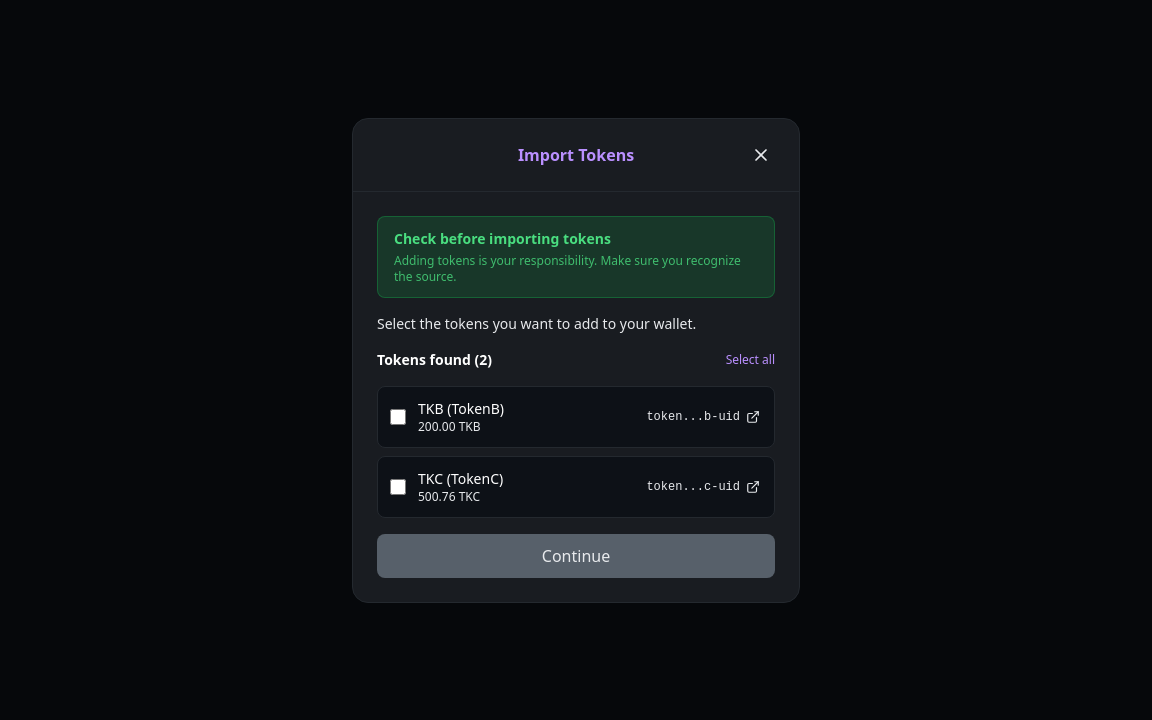
Test: ImportTokensDialog › should show success step after importing
Expected: the text "TKB (TokenB)" is shown, [418, 398, 504, 418]
// Select + Continue + Import
Click the checkbox labelled "TKB (TokenB) 200.00 TKB token...b-uid": (398, 416) [390, 408, 406, 424]
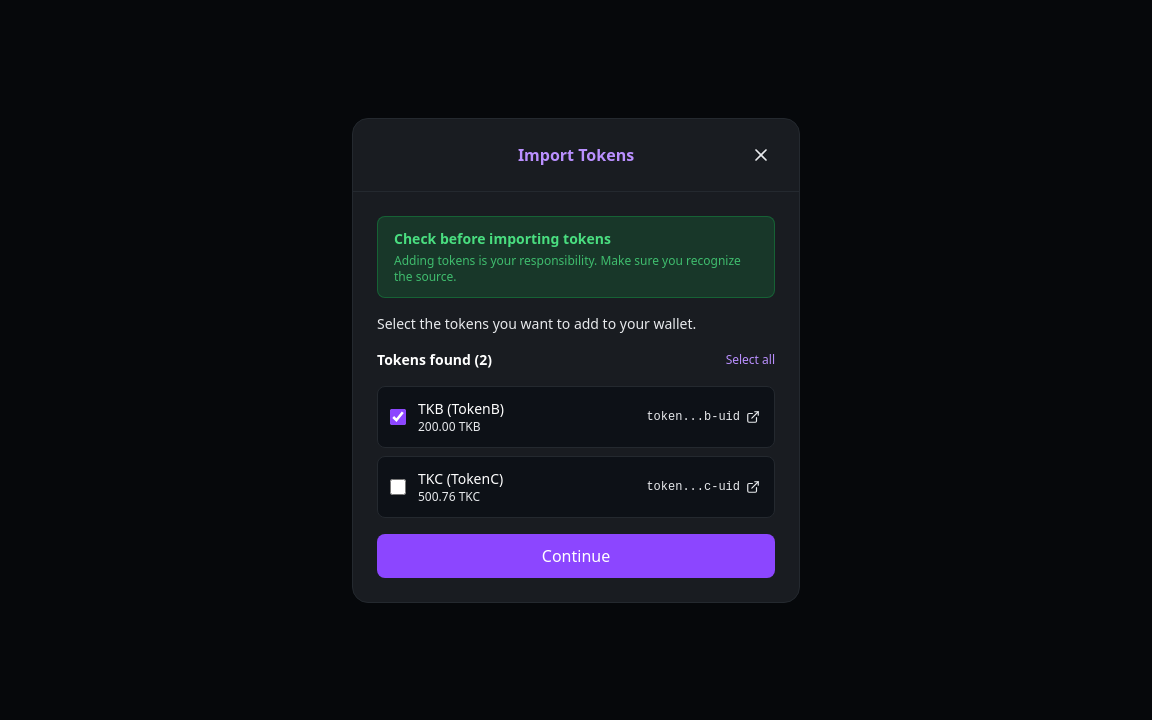
Click the button "Continue": (576, 556) [377, 534, 775, 578]
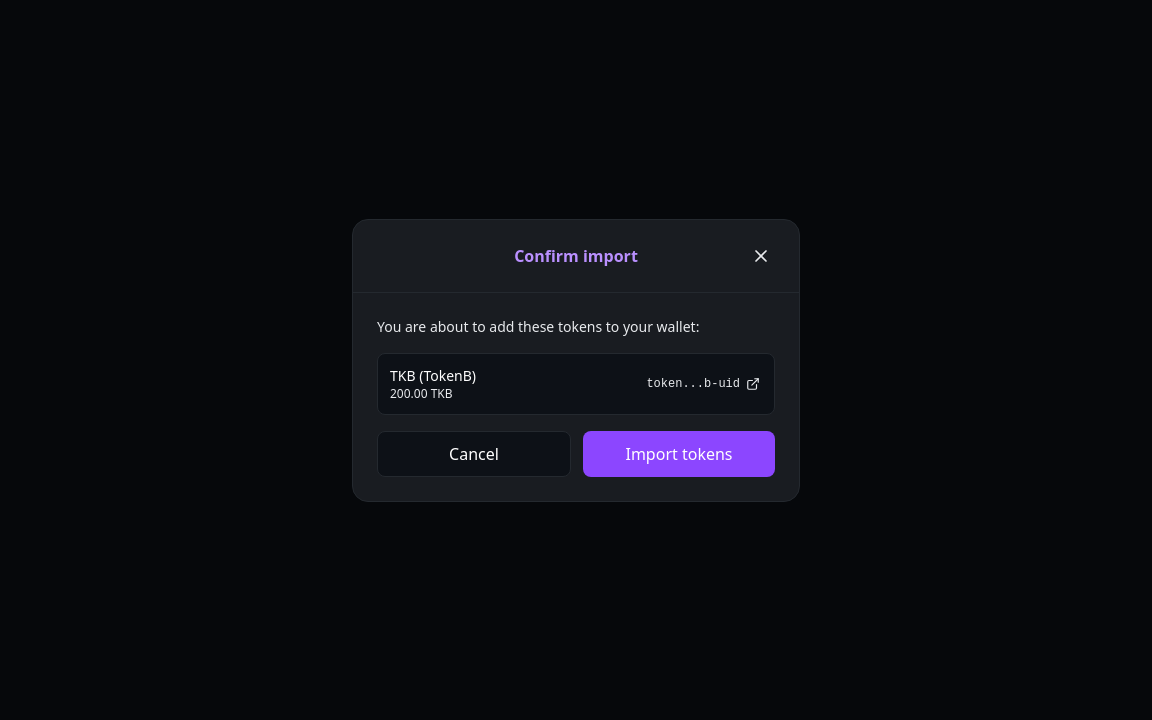
Click the button "Import tokens": (679, 454) [583, 430, 775, 476]
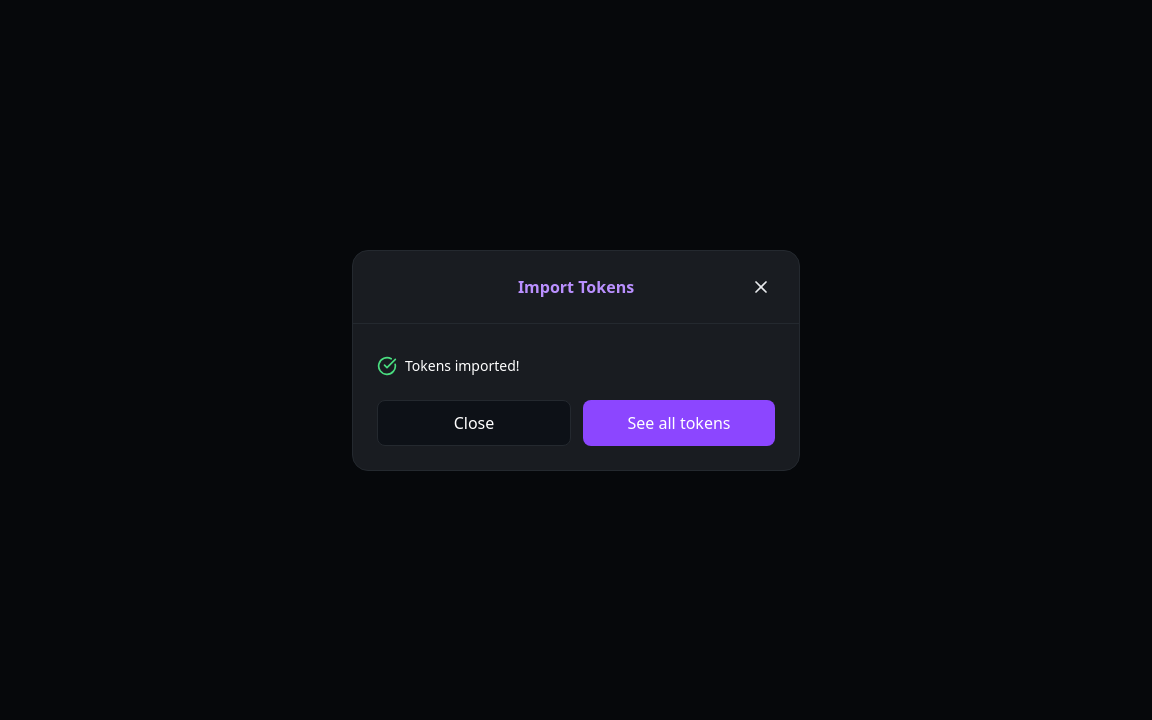
Expected: the text "Tokens imported!" is shown, [405, 356, 520, 376]
Expected: the button "Close" is shown, [377, 400, 571, 446]
Expected: the button "See all tokens" is shown, [583, 400, 775, 446]
